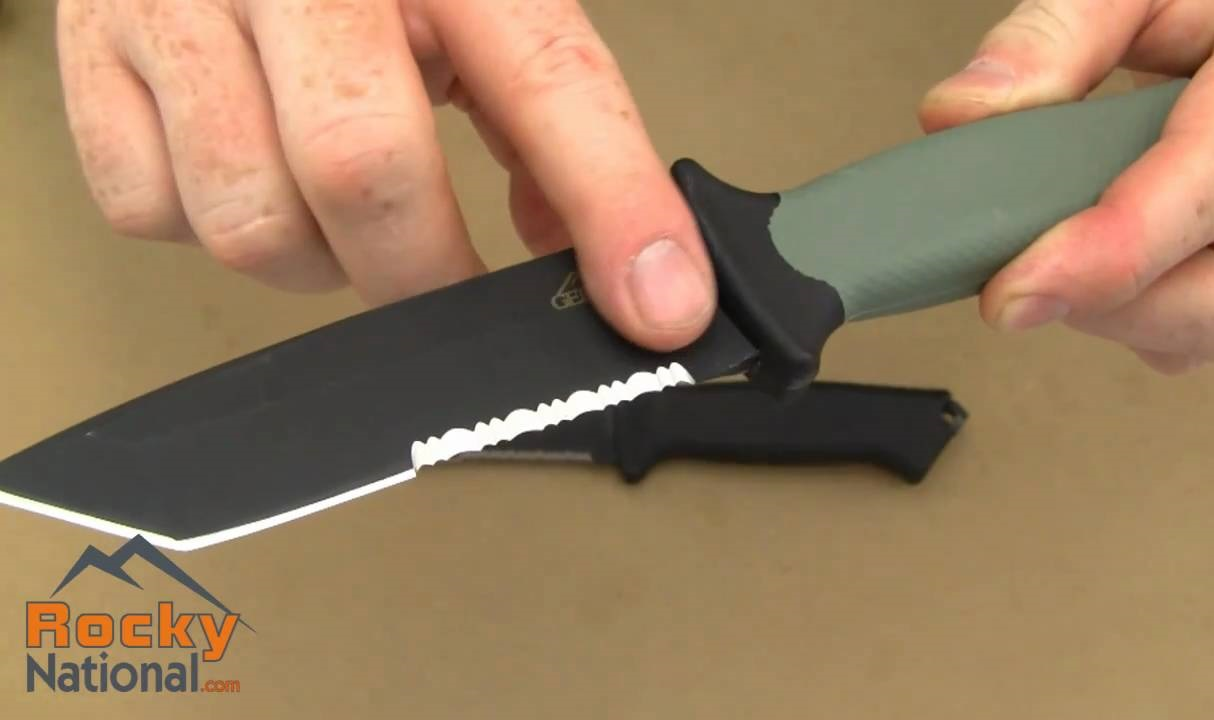knife: (1, 61, 1203, 574)
